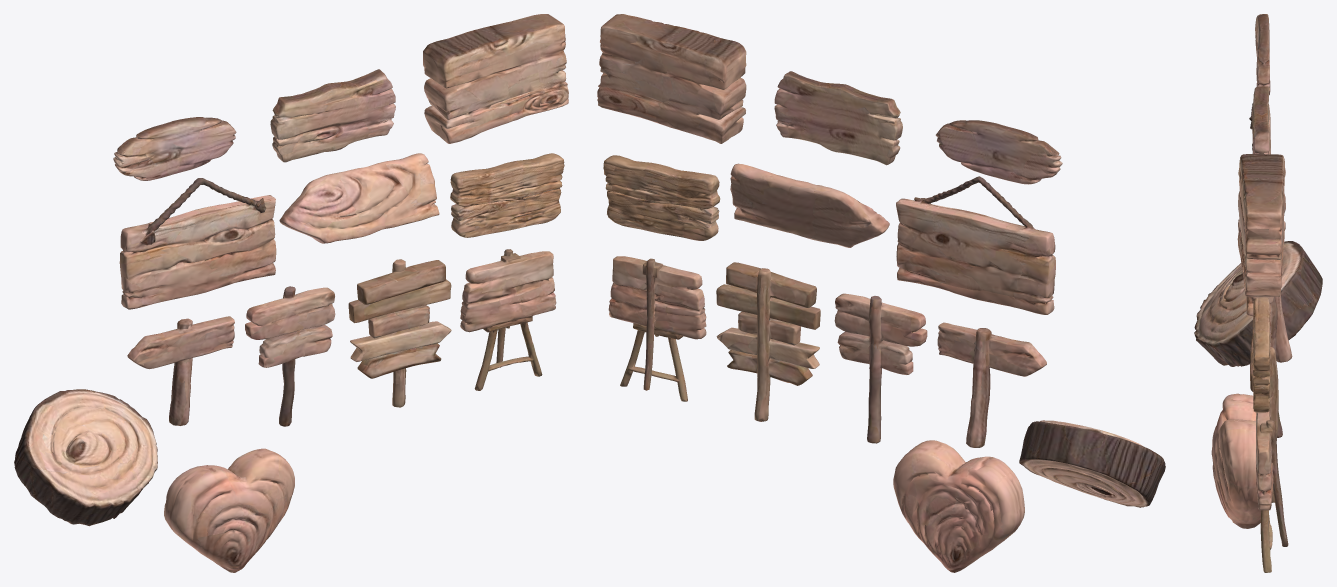
3 views of the same model, side by side, from view 1: azimuth 30°, elevation 25°; view 2: azimuth 150°, elevation 25°; view 3: azimuth 270°, elevation 25° (orthographic). The views are drawn at different scales.
Visible parts, largest first — view 1: Mesh 3, Mesh 17, Mesh 6, Mesh 8, Mesh 11, Mesh 13, Mesh 10, Mesh 16, Mesh 15, Mesh 9, Mesh 5, Mesh 7; view 2: Mesh 17, Mesh 6, Mesh 8, Mesh 13, Mesh 3, Mesh 16, Mesh 10, Mesh 11, Mesh 15, Mesh 9, Mesh 5, Mesh 7; view 3: Mesh 3, Mesh 17, Mesh 8, Mesh 16, Mesh 15, Mesh 10, Mesh 5, Mesh 13, Mesh 7, Mesh 9, Mesh 11.
Part boxes in pixels (<box>): Mesh 3: <box>14,389,157,526</box>; Mesh 17: <box>423,14,568,143</box>; Mesh 6: <box>119,178,276,309</box>; Mesh 8: <box>164,448,294,572</box>; Mesh 11: <box>279,153,439,243</box>; Mesh 13: <box>348,259,451,407</box>; Mesh 10: <box>270,69,395,162</box>; Mesh 16: <box>460,249,556,390</box>; Mesh 15: <box>450,153,564,237</box>; Mesh 9: <box>245,286,335,426</box>; Mesh 5: <box>113,117,236,180</box>; Mesh 7: <box>127,316,234,425</box>; Mesh 17: <box>597,14,746,143</box>; Mesh 6: <box>896,176,1055,314</box>; Mesh 8: <box>893,440,1024,572</box>; Mesh 13: <box>716,262,820,421</box>; Mesh 3: <box>1019,420,1165,507</box>; Mesh 16: <box>608,256,706,401</box>; Mesh 10: <box>774,71,902,165</box>; Mesh 11: <box>730,163,889,247</box>; Mesh 15: <box>603,155,720,240</box>; Mesh 9: <box>834,293,927,443</box>; Mesh 5: <box>935,120,1062,184</box>; Mesh 7: <box>937,322,1046,447</box>; Mesh 3: <box>1194,241,1322,366</box>; Mesh 17: <box>1237,154,1285,296</box>; Mesh 8: <box>1211,393,1260,528</box>; Mesh 16: <box>1256,411,1288,572</box>; Mesh 15: <box>1252,297,1270,412</box>; Mesh 10: <box>1252,86,1269,154</box>; Mesh 5: <box>1255,14,1270,95</box>; Mesh 13: <box>1250,339,1278,502</box>; Mesh 7: <box>1275,294,1292,362</box>; Mesh 9: <box>1270,297,1282,437</box>; Mesh 11: <box>1246,296,1273,316</box>.
Bounding box in the file's own units: 1.89 × 1.57 × 0.3754.
Materials: 12 (12 with a texture image).
